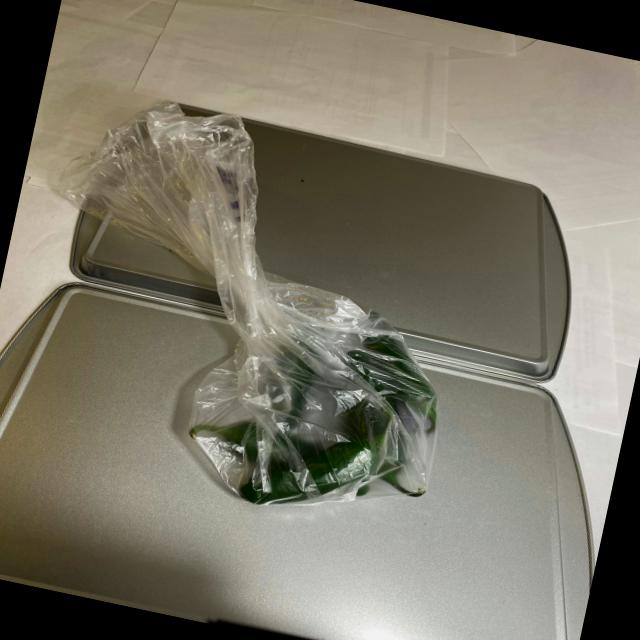chilli: (172, 285, 462, 538)
